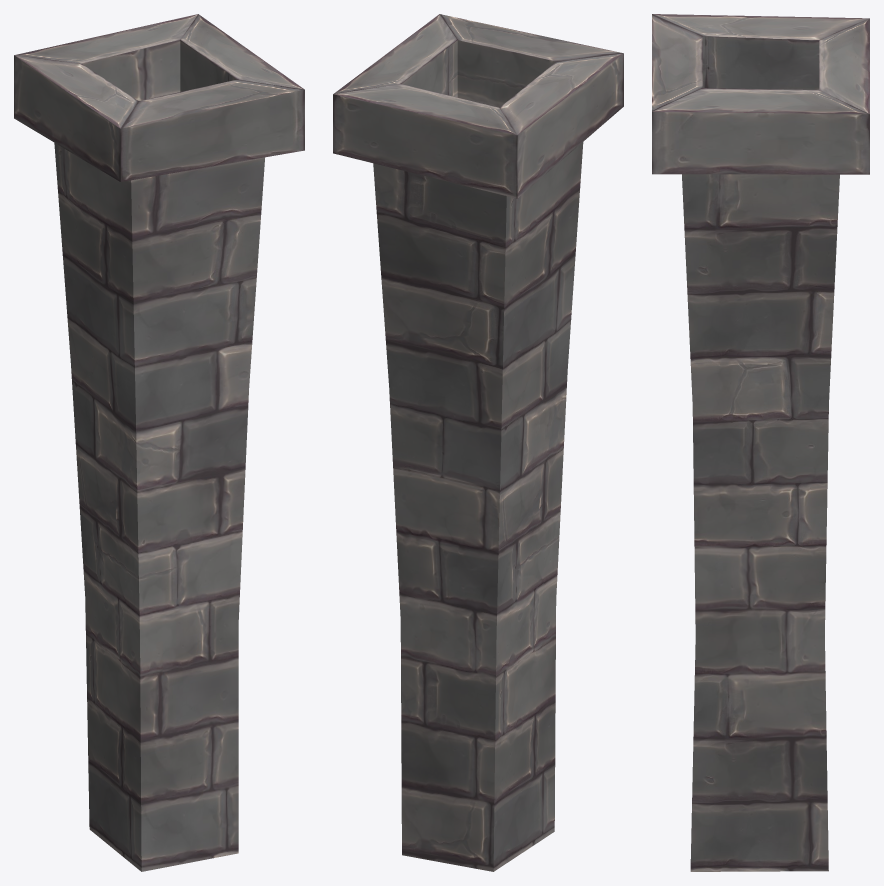
File: SM_BLD_chimney_v01_01.glb
3 renders of one model, left to right at view 1: azimuth 30°, elevation 25°; view 2: azimuth 150°, elevation 25°; view 3: azimuth 270°, elevation 25°, orthographic. The views are drawn at different scales.
Visible parts, largest first — view 1: SM_BLD_chimney_v01_01_EXPORT; view 2: SM_BLD_chimney_v01_01_EXPORT; view 3: SM_BLD_chimney_v01_01_EXPORT.
Part boxes in pixels (x1,y1,x2,y2): SM_BLD_chimney_v01_01_EXPORT: (14,14,304,871); SM_BLD_chimney_v01_01_EXPORT: (333,14,623,871); SM_BLD_chimney_v01_01_EXPORT: (652,14,869,871).
Size of the model in its own units: 1.42 by 5.7 by 1.42.
Materials: 1 (1 with a texture image).
